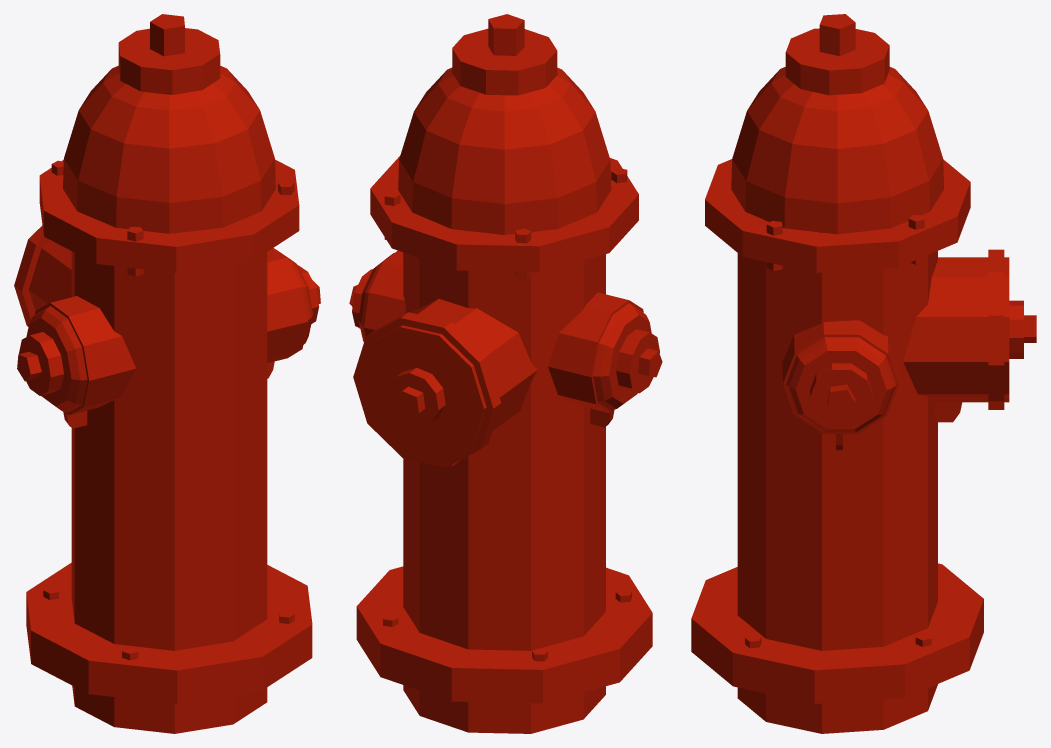
File: env_16.glb
The picture shows the model from 3 angles, left to right: view 1: azimuth 30°, elevation 25°; view 2: azimuth 150°, elevation 25°; view 3: azimuth 270°, elevation 25°; orthographic projection.
Parts seen in each view (by area): view 1: fire_hydrant; view 2: fire_hydrant; view 3: fire_hydrant.
Boxes of the visible parts, x1,y1,x2,y2 form: fire_hydrant: (14,14,320,733); fire_hydrant: (349,14,662,733); fire_hydrant: (691,14,1036,733).
Size of the model in its own units: 0.1754 by 0.3811 by 0.1779.
